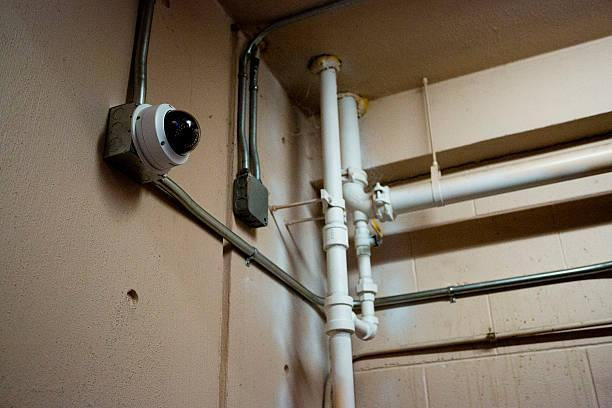camera: (113, 73, 215, 192), (132, 102, 199, 177)
